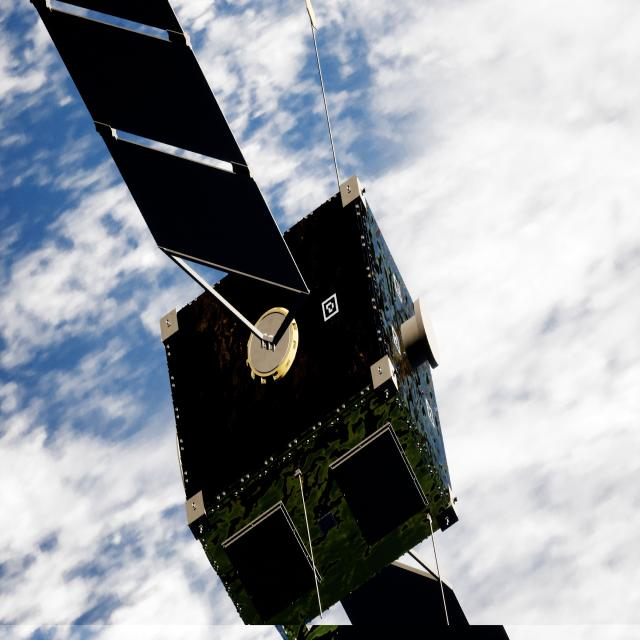medium_debris: (32, 0, 504, 640)
